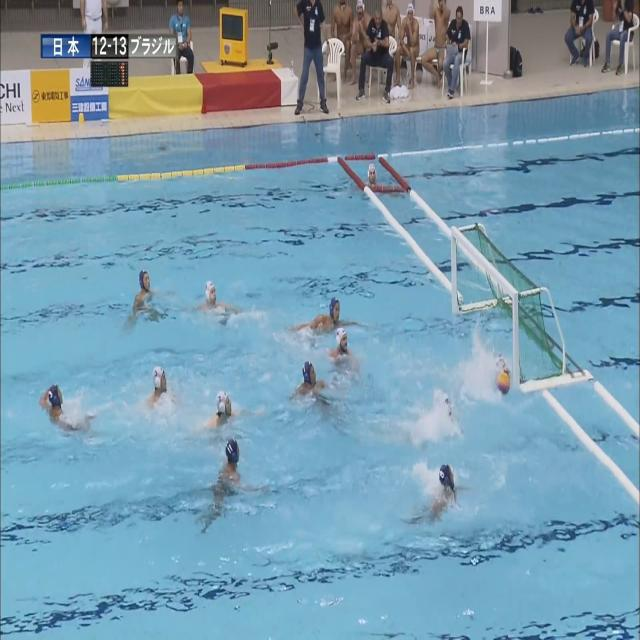ball: (497, 371, 510, 394)
